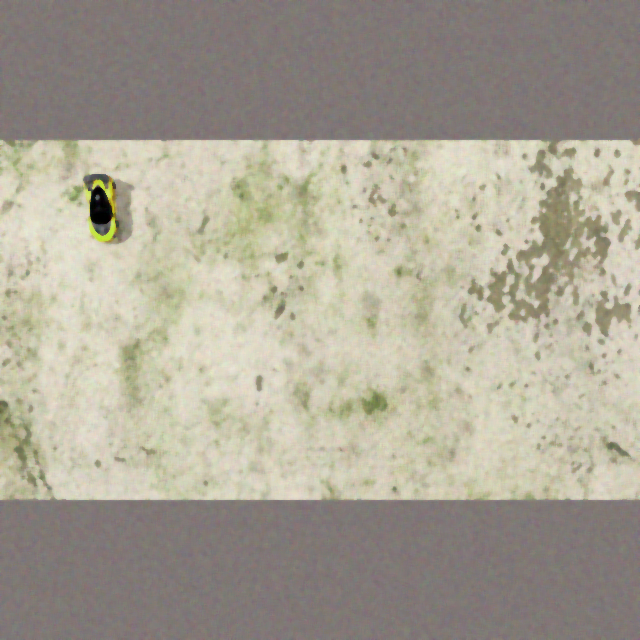car: (80, 172, 122, 244)
